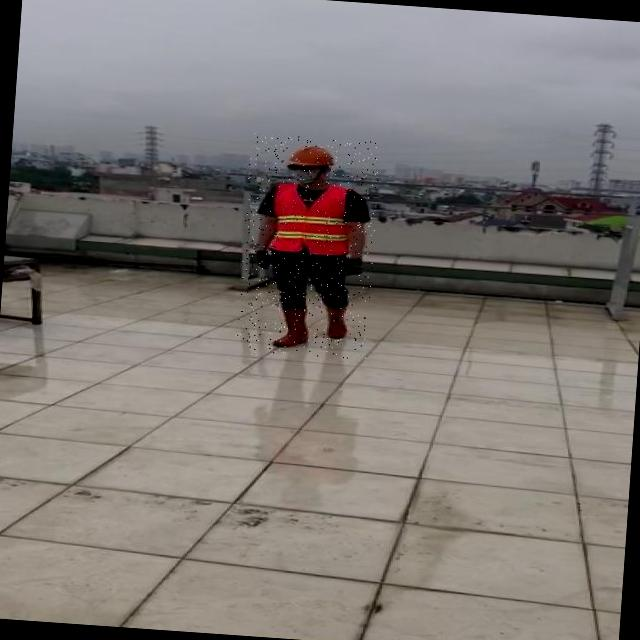boots: (266, 304, 311, 348), (322, 303, 350, 341)
gloves: (339, 248, 374, 280), (250, 238, 272, 273)
helmet: (284, 142, 338, 171)
vest: (266, 180, 351, 254)
